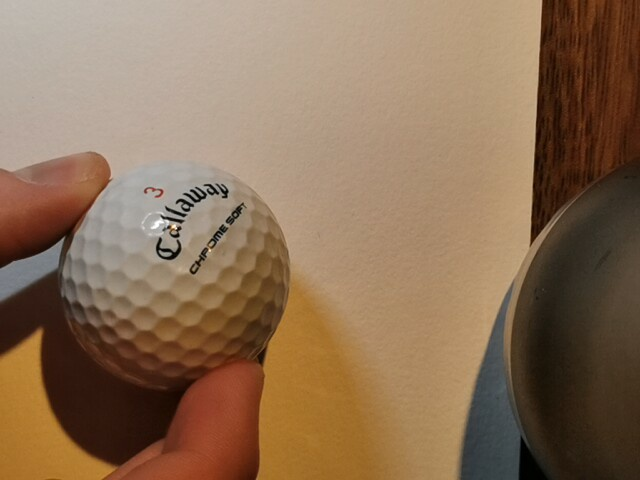Ball: (57, 159, 291, 392)
Callaway: (155, 183, 229, 261)
